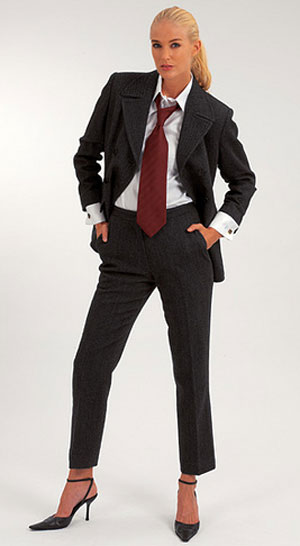tie: (133, 100, 177, 241)
